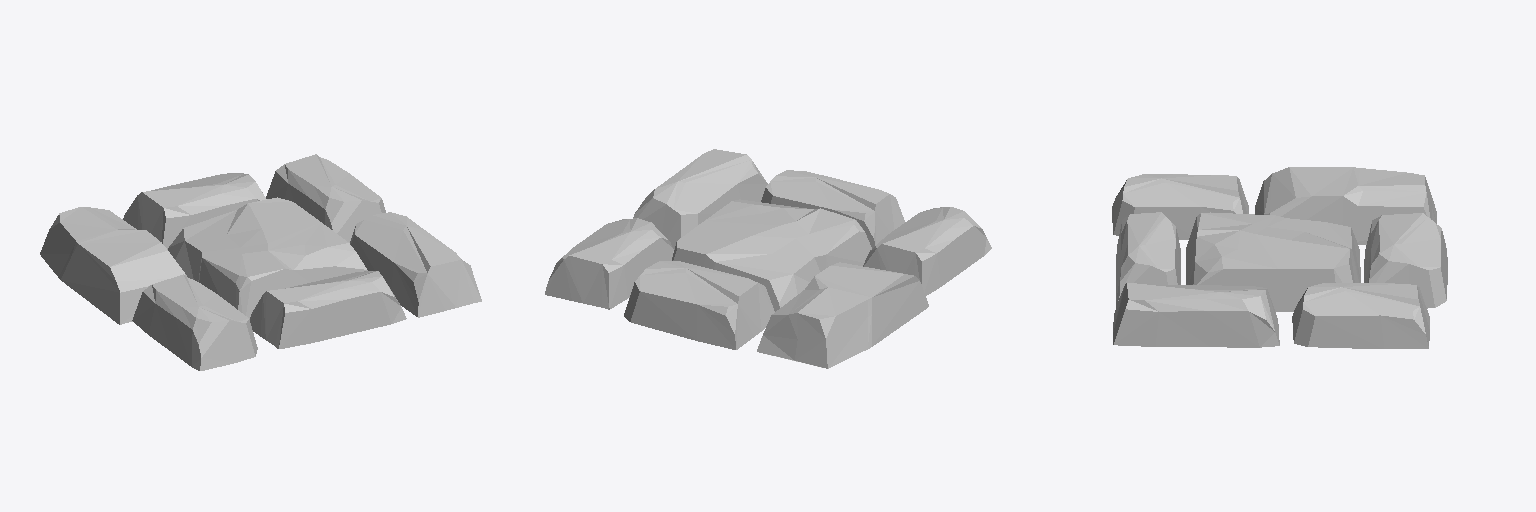
File: RockPath_Square_Small_2.obj
3 renders of one model, left to right at view 1: azimuth 30°, elevation 25°; view 2: azimuth 150°, elevation 25°; view 3: azimuth 270°, elevation 25°, orthographic.
Parts seen in each view (by area): view 1: RockPath_Square_Small_2; view 2: RockPath_Square_Small_2; view 3: RockPath_Square_Small_2.
Boxes of the visible parts, <box> form: RockPath_Square_Small_2: <box>40,154,481,370</box>; RockPath_Square_Small_2: <box>545,149,991,368</box>; RockPath_Square_Small_2: <box>1112,167,1447,348</box>.
Size of the model in its own units: 0.9927 by 0.1493 by 0.9661.